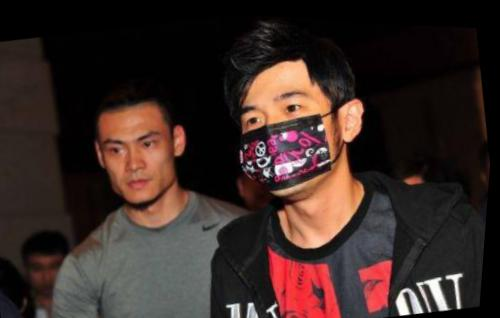NONE: (97, 120, 182, 209), (28, 251, 72, 297)
WRONG: (231, 76, 352, 204)
